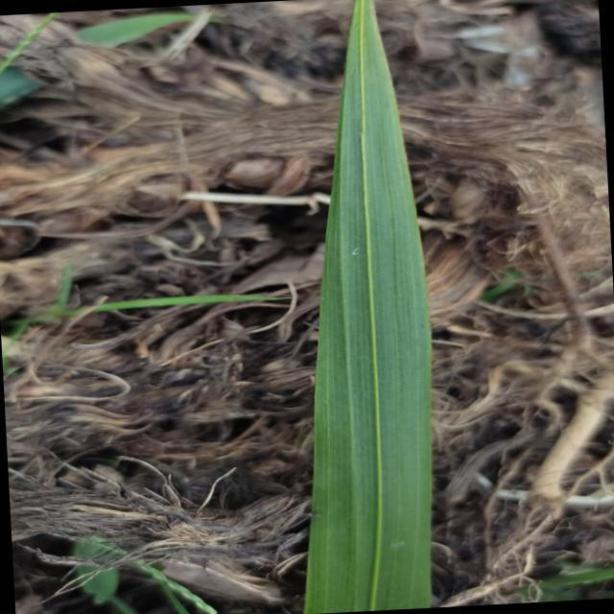Healthy: (302, 0, 435, 614)
